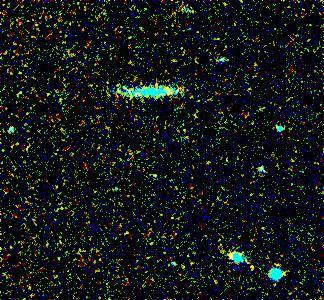star: (235, 255, 265, 285)
